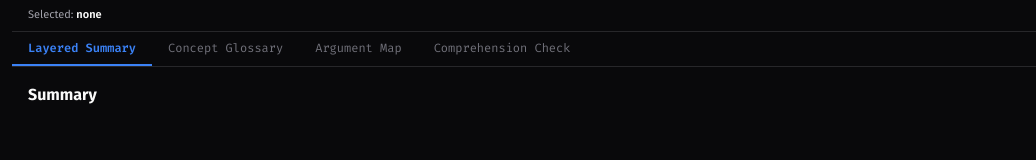
Test: DetailPanelShell (with tabs) › switches to Concept Glossary tab on click
The image size is (1036, 160).
Click the tab "Concept Glossary" at (226, 49), box [152, 32, 299, 66]
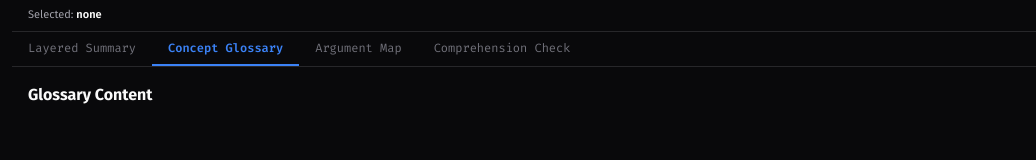
Now the heading "Glossary Content" is shown, box [28, 85, 152, 104]
